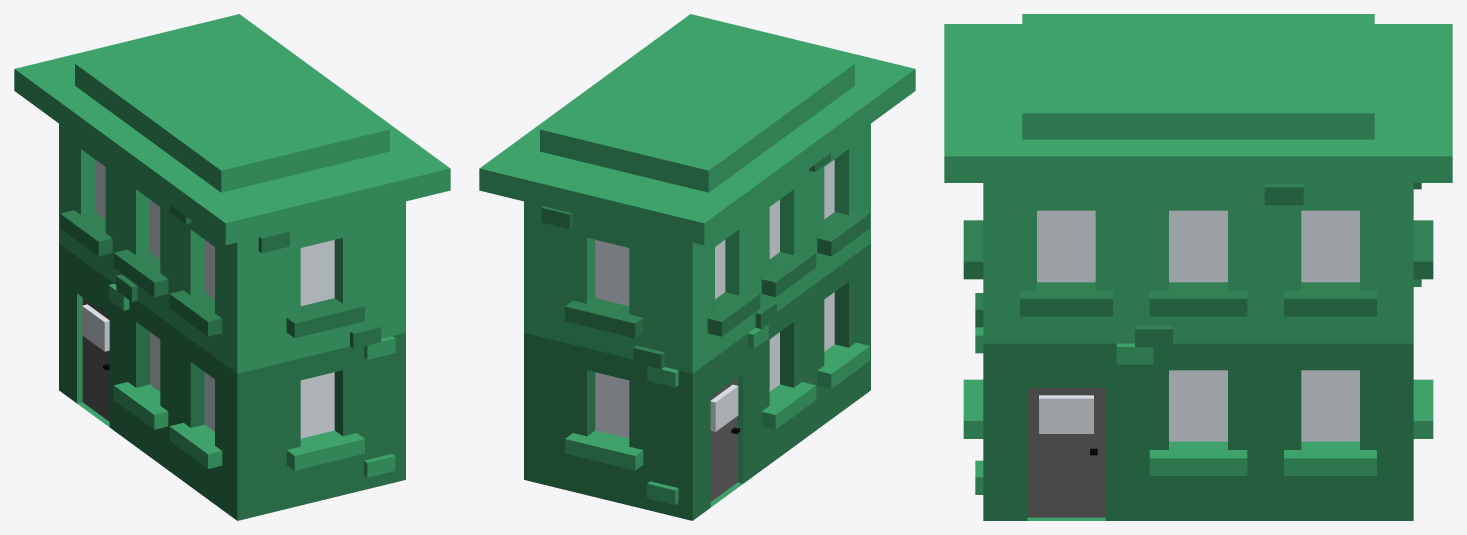
Rendered from Edificio 4.fbx.
3 renders of one model, left to right at view 1: azimuth 30°, elevation 25°; view 2: azimuth 150°, elevation 25°; view 3: azimuth 270°, elevation 25°, orthographic. The views are drawn at different scales.
Visible parts, largest first — view 1: [4173], Pared 2 [4347], Pared 1 [4344]; view 2: [4173], Pared 2 [4347], Pared 1 [4341]; view 3: Pared 2 [4350], [4173], Pared 1 [4344], Pared 1 [4341].
Boxes of the visible parts, x1,y1,x2,y2 form: [4173]: [14, 14, 450, 245]; Pared 2 [4347]: [59, 124, 237, 520]; Pared 1 [4344]: [237, 201, 405, 520]; [4173]: [479, 14, 915, 245]; Pared 2 [4347]: [692, 124, 870, 520]; Pared 1 [4341]: [524, 201, 692, 520]; Pared 2 [4350]: [983, 183, 1413, 520]; [4173]: [944, 14, 1452, 182]; Pared 1 [4344]: [963, 220, 983, 494]; Pared 1 [4341]: [1413, 183, 1433, 438].
Size of the model in its own units: 315 by 512 by 453.
